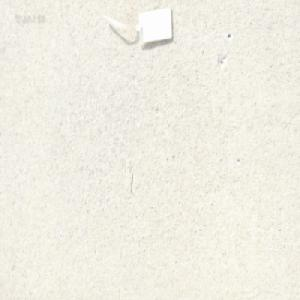LuggageTag: (101, 7, 173, 52)
